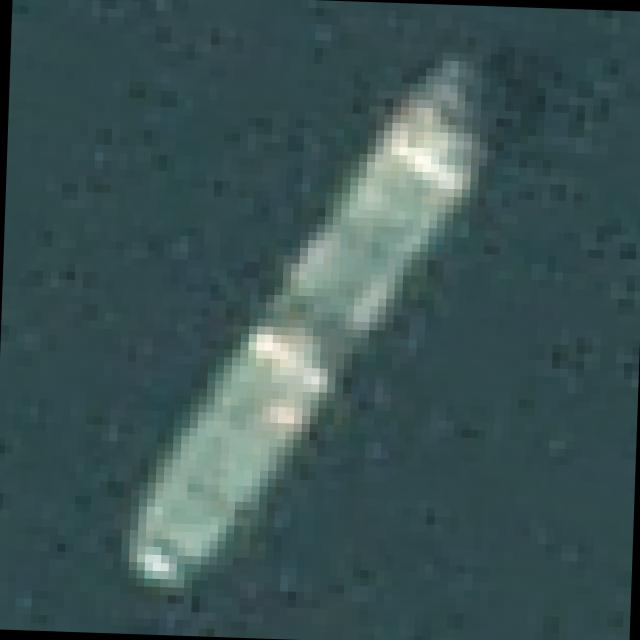ship: (79, 22, 525, 630)
